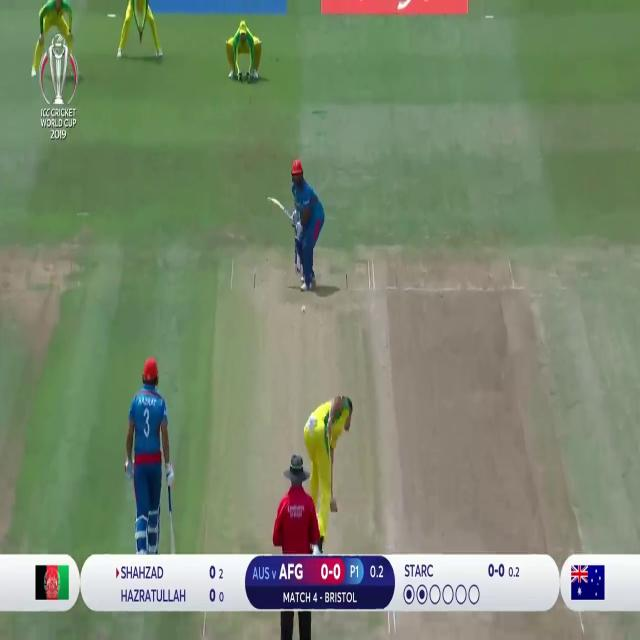ball: (300, 302, 308, 312)
